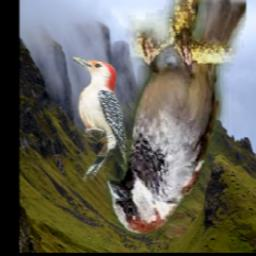Sparrow: (107, 0, 247, 236)
Woodpecker: (68, 54, 126, 182)
